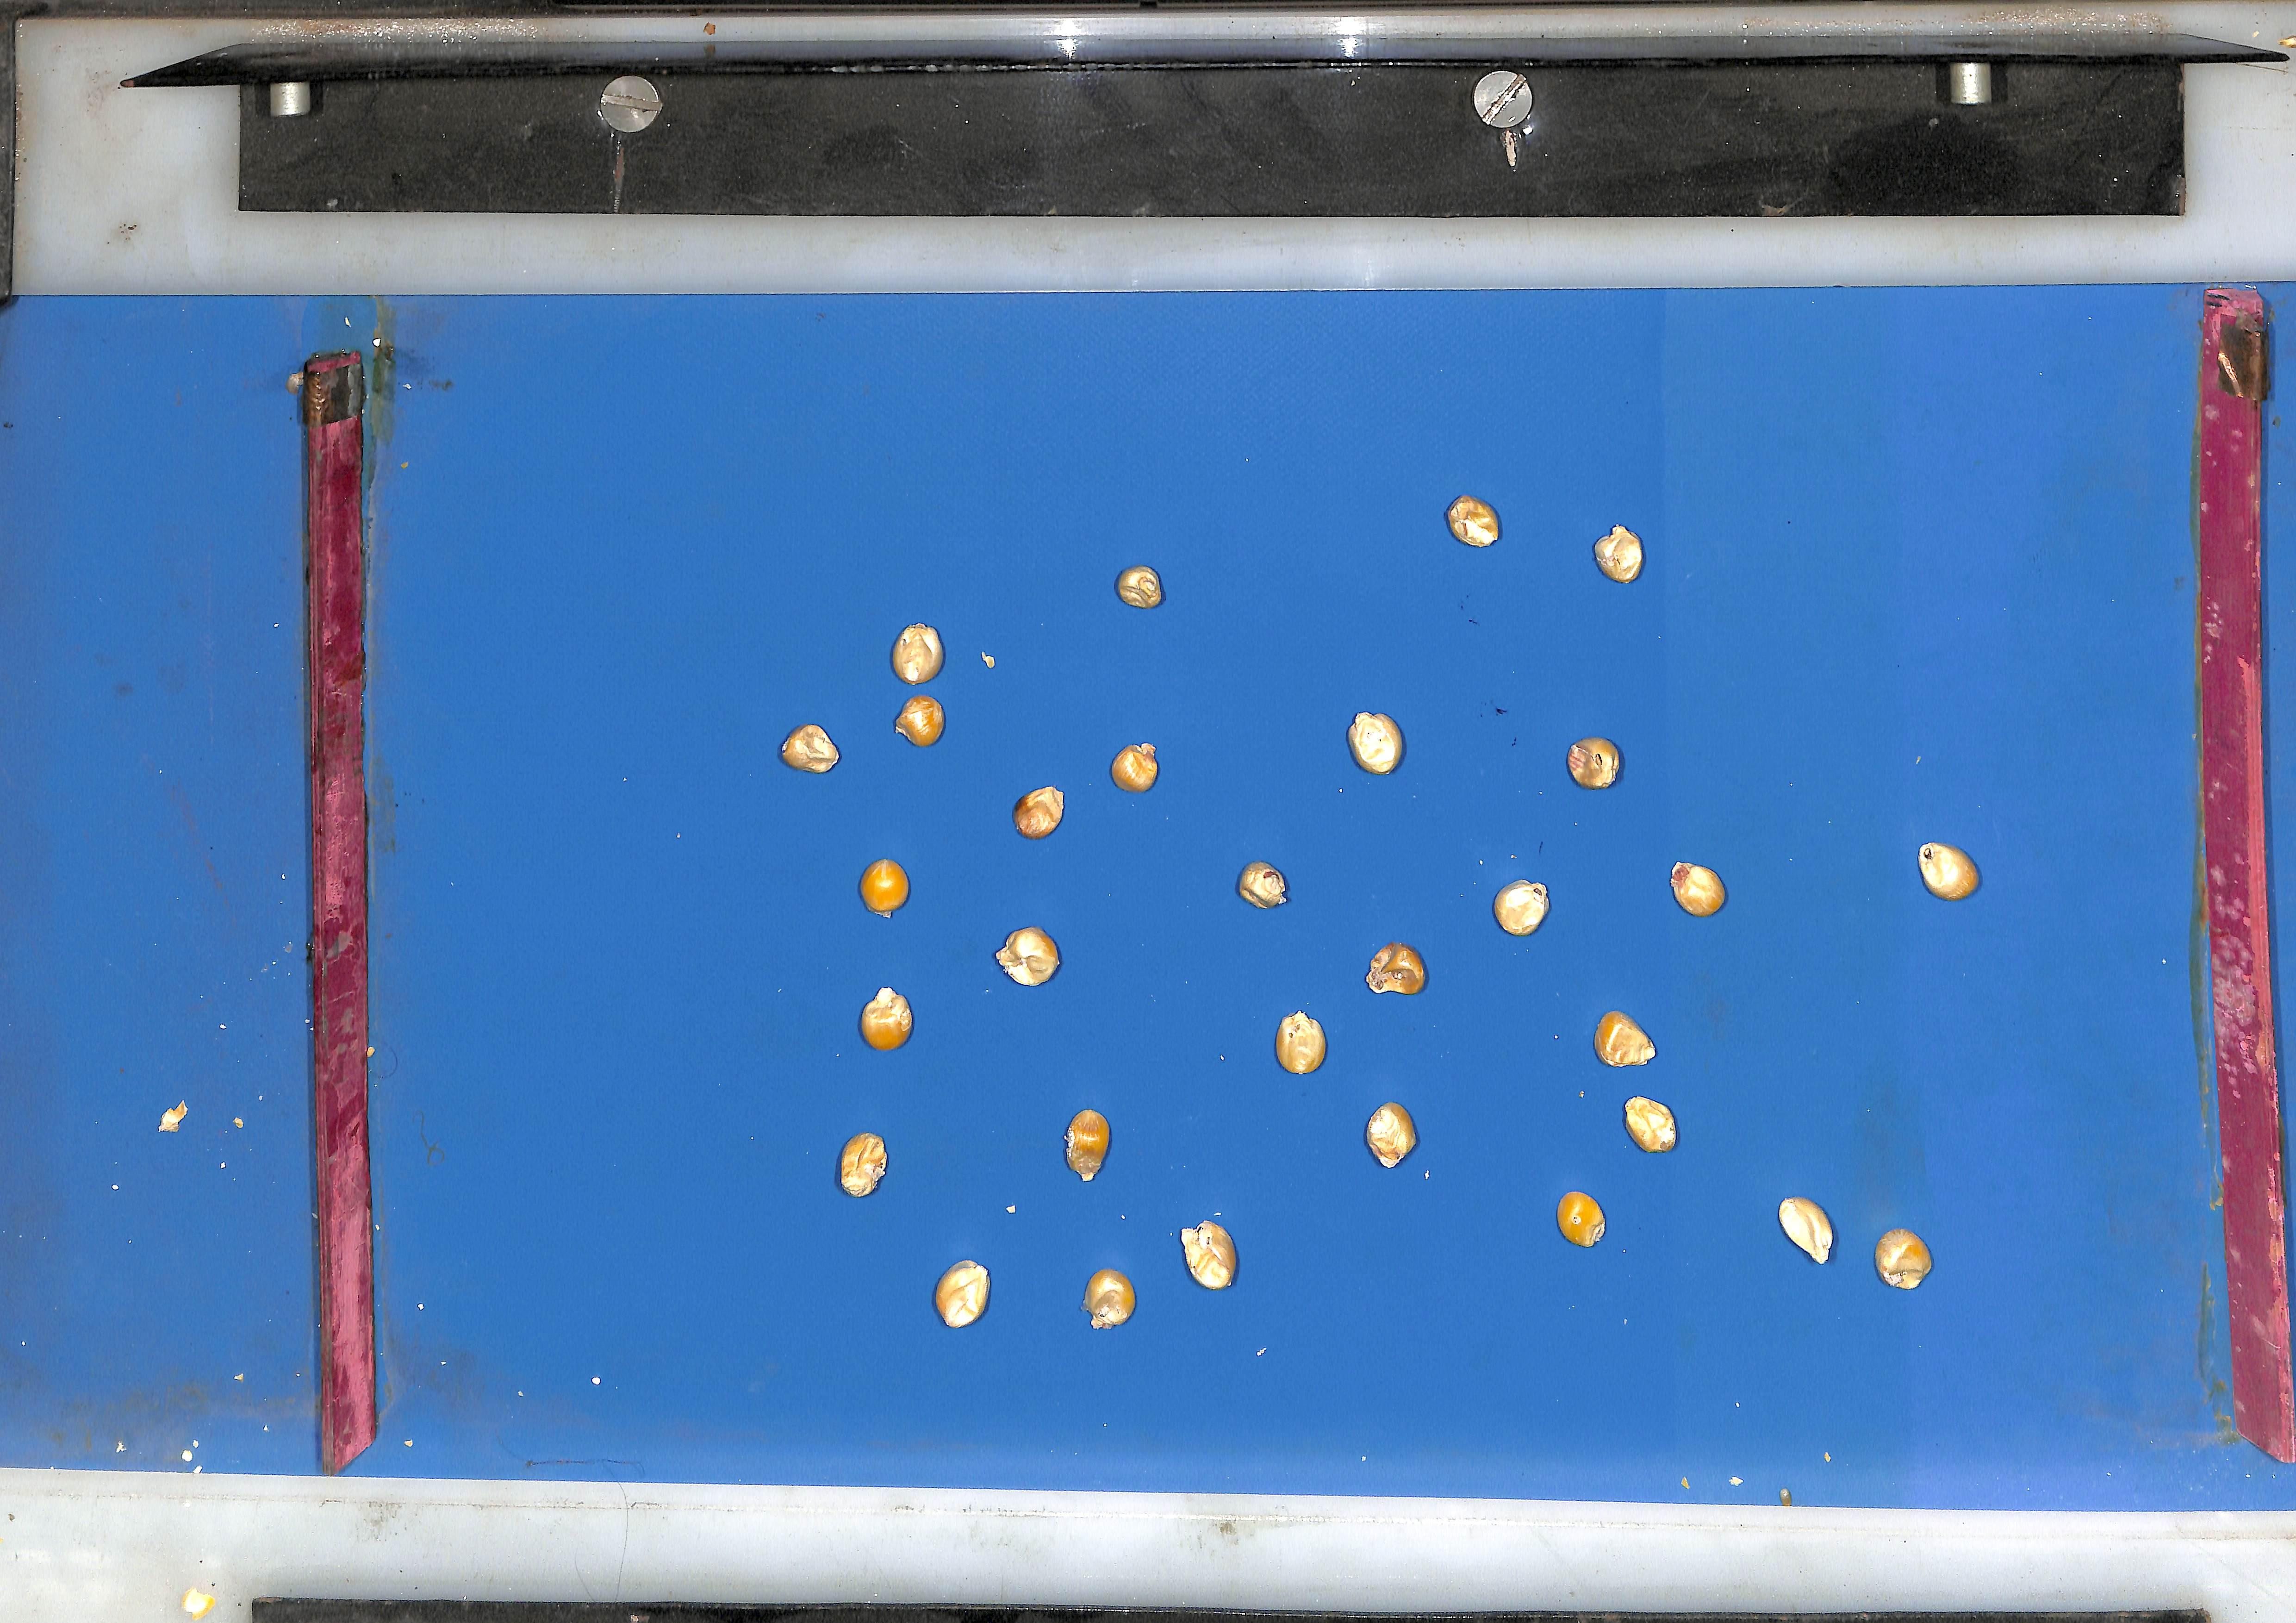Wv: (1181, 1223, 1239, 1291), (994, 927, 1060, 985), (934, 1261, 988, 1330), (1782, 1198, 1836, 1265), (1878, 1230, 1936, 1291), (1922, 841, 1982, 899), (1596, 1012, 1657, 1068), (858, 987, 913, 1050), (1350, 711, 1404, 773), (1367, 1103, 1418, 1168), (1065, 1110, 1111, 1182), (890, 622, 943, 683), (1276, 1012, 1327, 1075), (1496, 880, 1552, 936), (1673, 861, 1729, 917), (1367, 941, 1427, 994), (1083, 1270, 1136, 1330), (839, 1133, 886, 1198), (1625, 1096, 1680, 1152), (779, 722, 839, 773), (1596, 522, 1645, 581), (1569, 736, 1624, 789), (858, 859, 909, 915), (1446, 494, 1501, 545), (893, 694, 944, 747), (1559, 1193, 1608, 1247), (1013, 787, 1064, 838), (1238, 861, 1288, 908), (1111, 743, 1159, 792), (1116, 564, 1164, 606)
